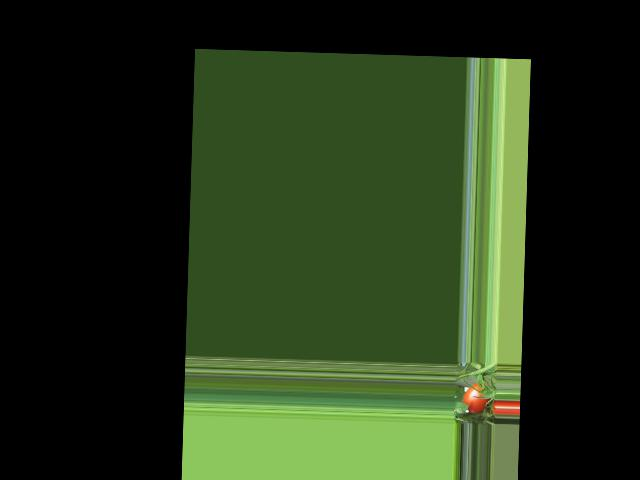tomato: (462, 383, 489, 414)
